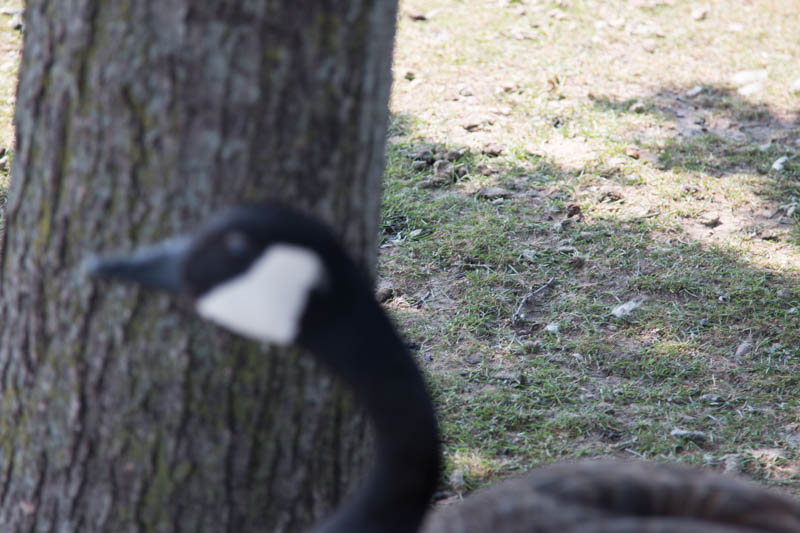goose-head: (78, 201, 375, 353)
